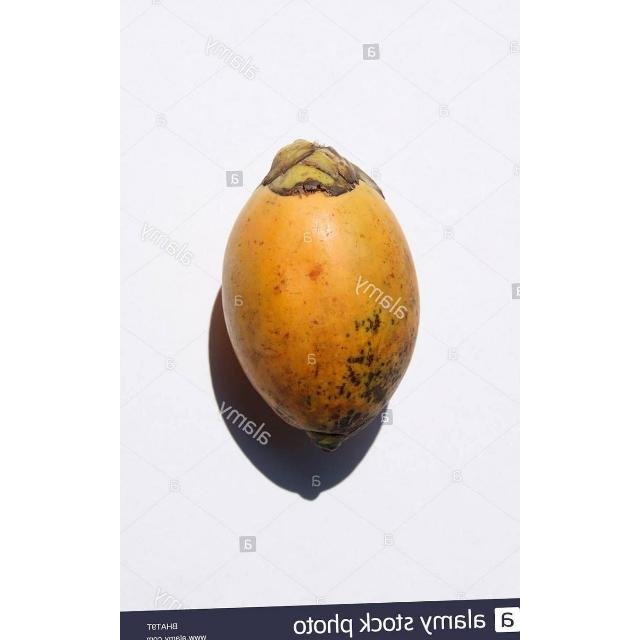good: (220, 140, 421, 454)
